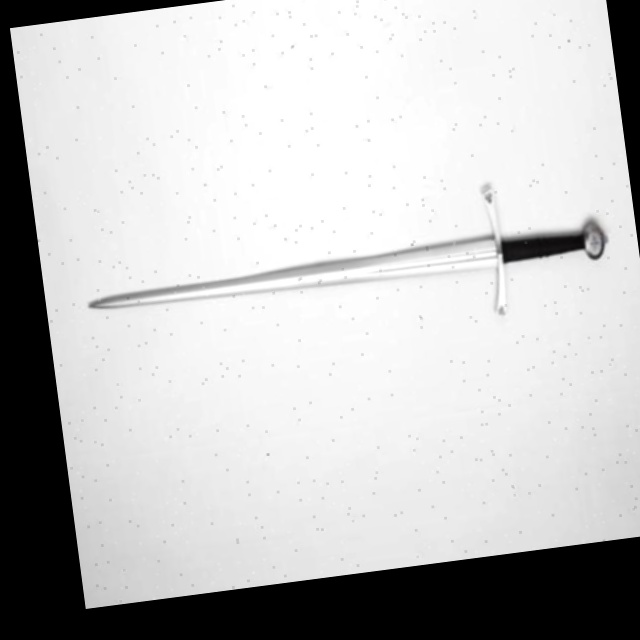Sharp-Object: (82, 205, 624, 330)
